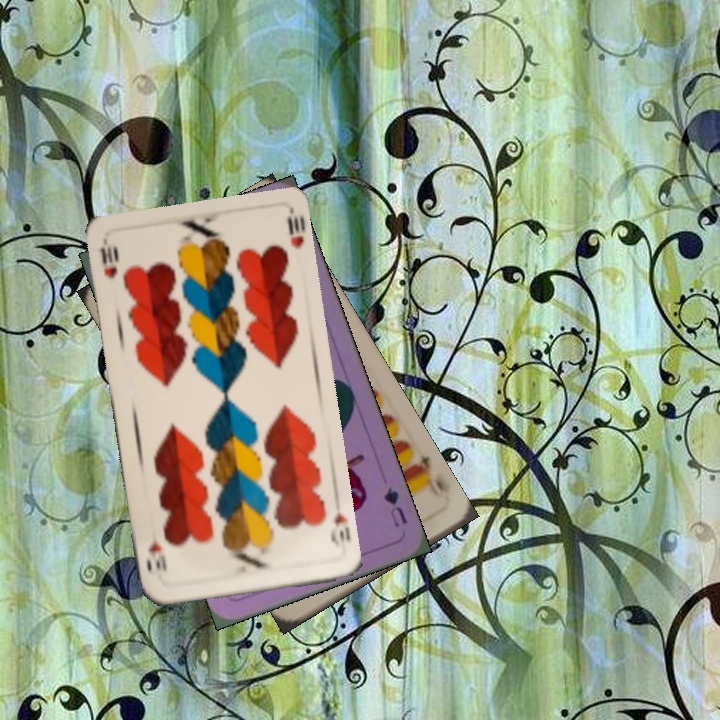E10: (407, 451, 453, 506)
GU: (379, 483, 410, 530)
H10: (326, 496, 352, 550), (96, 242, 122, 281)
